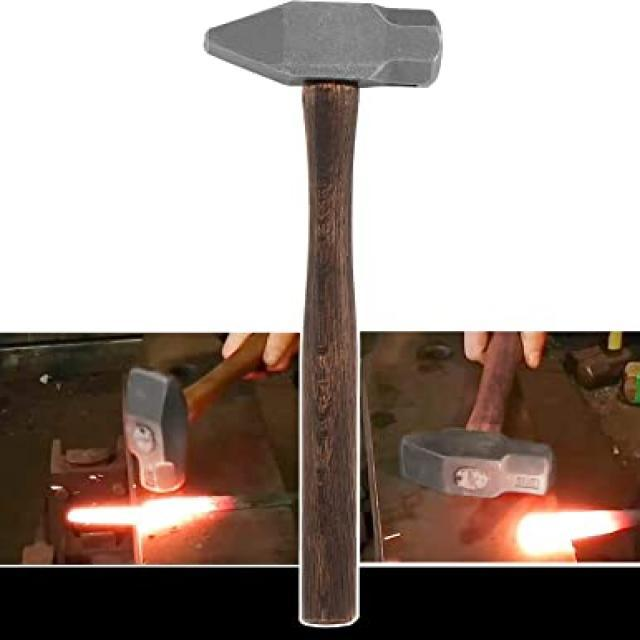hammer: (190, 0, 467, 634), (392, 326, 576, 518), (116, 331, 280, 501)
